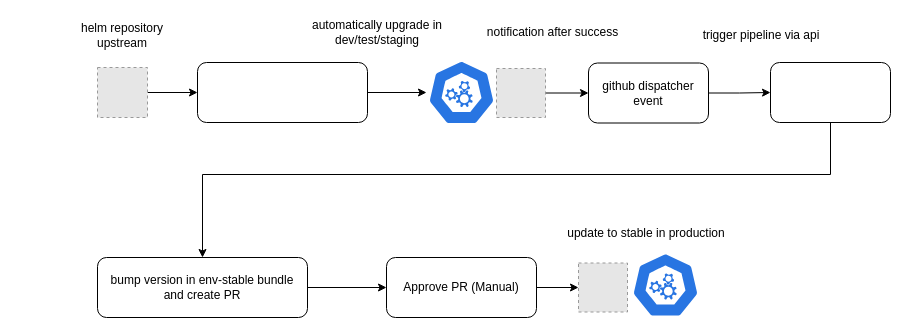
The diagram is 908 pixels wide and 335 high, and some of its shapes have lost their labels. Grey dashed boxes stand in for pictures. The shapes that lost their labels are listed below. From the top down, each one's box as (x1, y1, x2, y2) in pixels, then its label:
(196, 62, 368, 122): env-flex bundle
(770, 62, 890, 122): github actions workflow
